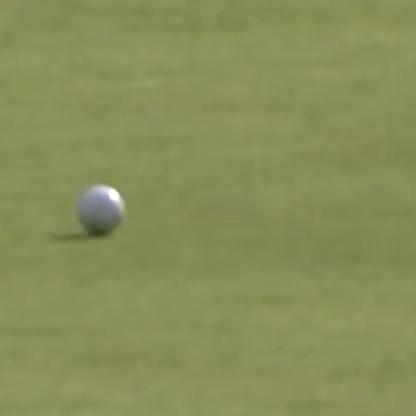golfball: (75, 180, 125, 231)
